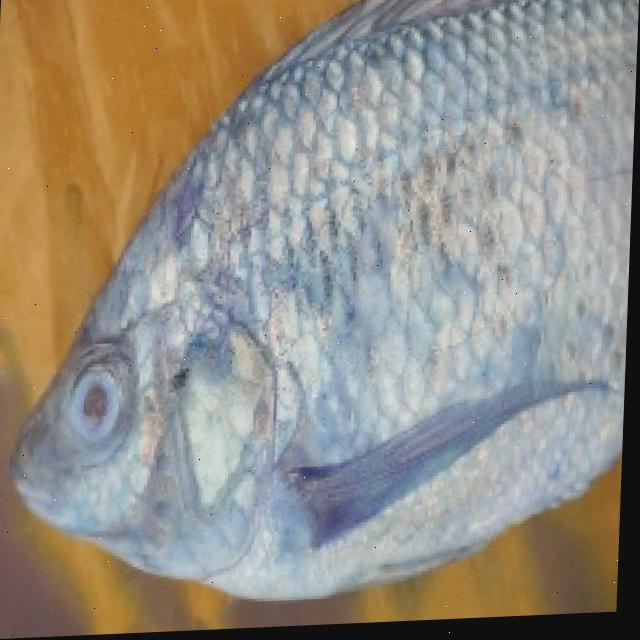Non-Fresh: (199, 25, 632, 557), (57, 358, 144, 467)
